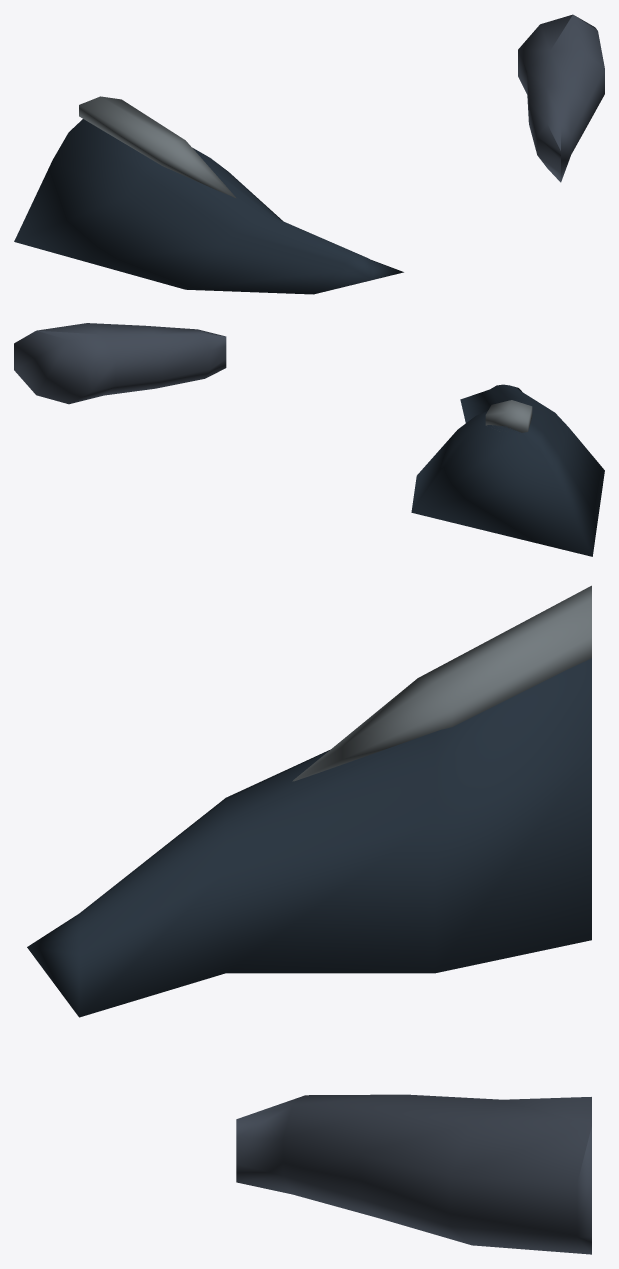
The model's file is newshn-201.glb.
The picture shows the model from 3 angles, top to bottom: view 1: azimuth 30°, elevation 25°; view 2: azimuth 150°, elevation 25°; view 3: azimuth 270°, elevation 25°; orthographic projection. The views are drawn at different scales.
Visible parts, largest first — view 1: newshn-201; view 2: newshn-201; view 3: newshn-201.
Part boxes in pixels (bbox=[...]): newshn-201: bbox=[14, 14, 604, 294]; newshn-201: bbox=[14, 323, 604, 556]; newshn-201: bbox=[27, 585, 591, 1254].
Bounding box in the file's own units: 1.06 × 0.2175 × 0.45.
